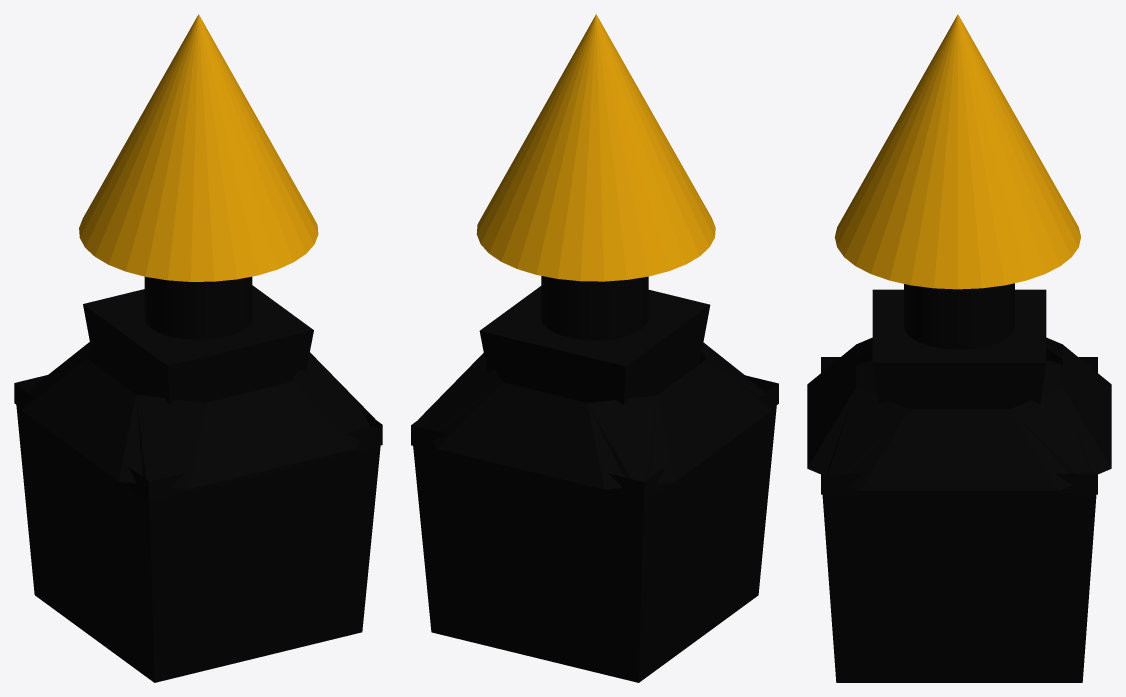
Rendered from tesla.fbx.
The picture shows the model from 3 angles, left to right: view 1: azimuth 30°, elevation 25°; view 2: azimuth 150°, elevation 25°; view 3: azimuth 270°, elevation 25°; orthographic projection. The views are drawn at different scales.
Parts seen in each view (by area): view 1: Base, Head; view 2: Base, Head; view 3: Base, Head.
Part boxes in pixels (bbox=[...]): Base: bbox=[14, 276, 382, 682]; Head: bbox=[79, 14, 318, 281]; Base: bbox=[411, 276, 778, 682]; Head: bbox=[476, 14, 715, 281]; Base: bbox=[807, 283, 1111, 682]; Head: bbox=[834, 14, 1080, 289].
Size of the model in its own units: 247 by 552 by 247.
